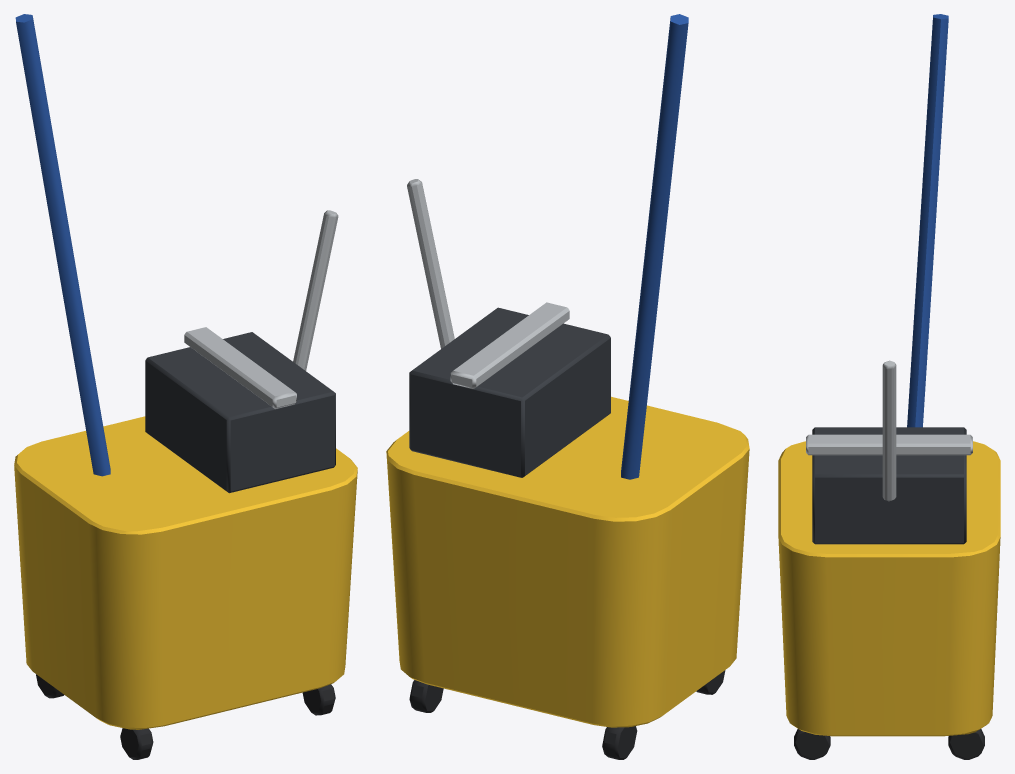
File: mop_bucket.glb
3 views of the same model, side by side, from view 1: azimuth 30°, elevation 25°; view 2: azimuth 150°, elevation 25°; view 3: azimuth 270°, elevation 25° (orthographic). The views are drawn at different scales.
Parts seen in each view (by area): view 1: mop_bucket; view 2: mop_bucket; view 3: mop_bucket.
Boxes of the visible parts, <box> form: mop_bucket: <box>14,14,357,759</box>; mop_bucket: <box>386,14,749,759</box>; mop_bucket: <box>778,14,1000,759</box>.
Size of the model in its own units: 2.41 by 5.5 by 1.73.
